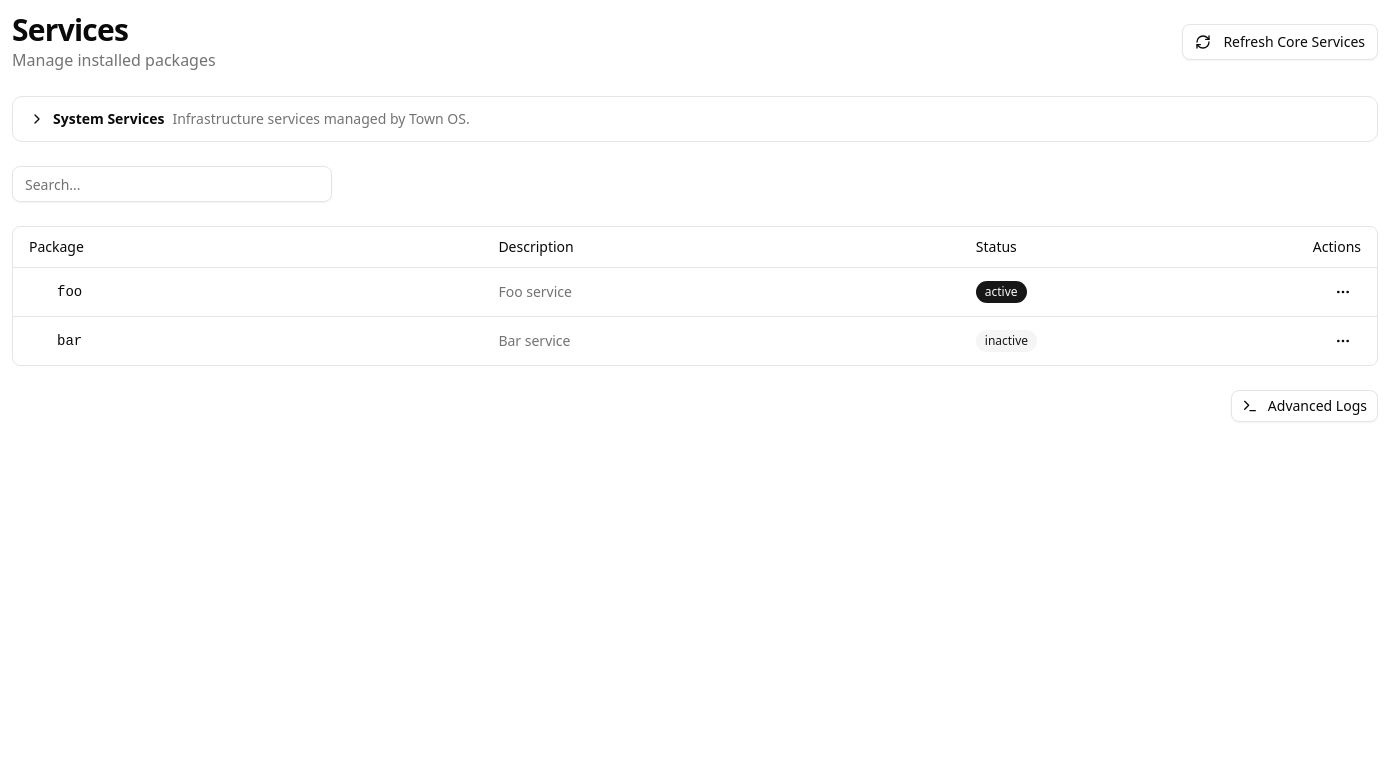
Test: SystemManagement › never fetches partitions from the services screen
Click the text "System Services" at x=109, y=119, box [53,109,164,129]
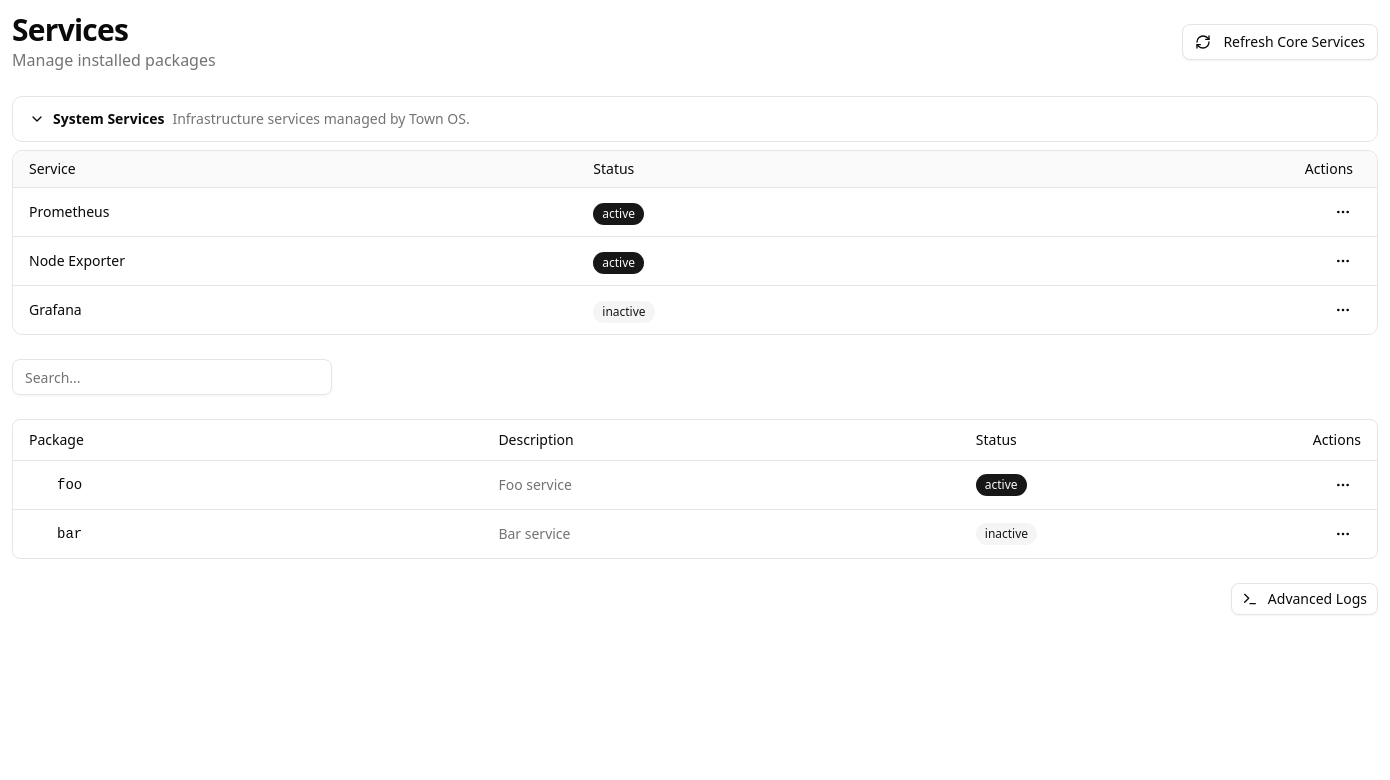
Now the text "Prometheus" is shown, box [13,188,577,236]
